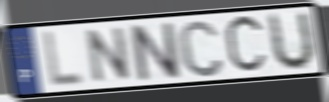C: (222, 11, 270, 79), (175, 17, 226, 79)
L: (42, 28, 86, 90)
N: (126, 20, 184, 84), (86, 25, 133, 86)
U: (267, 9, 317, 74)
